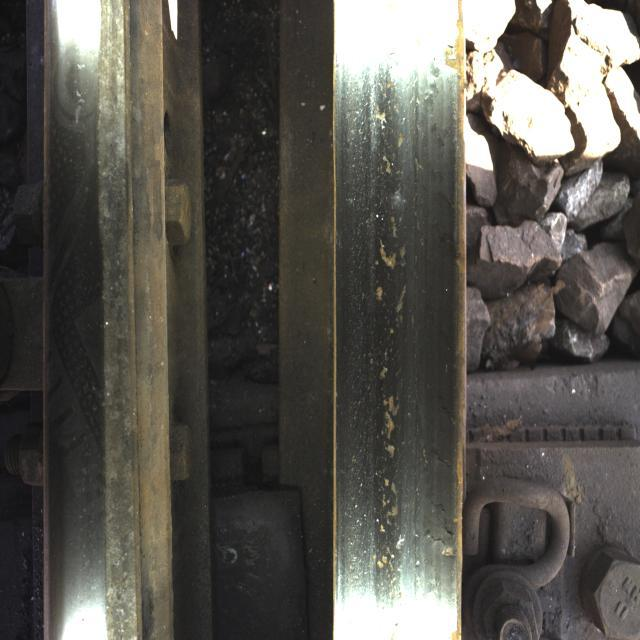scar: (348, 49, 434, 594)
